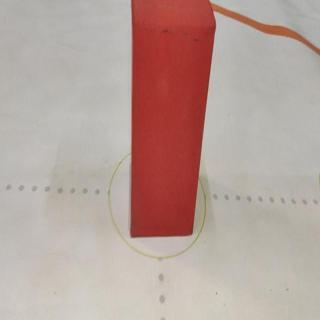redbox: (129, 0, 217, 238)
